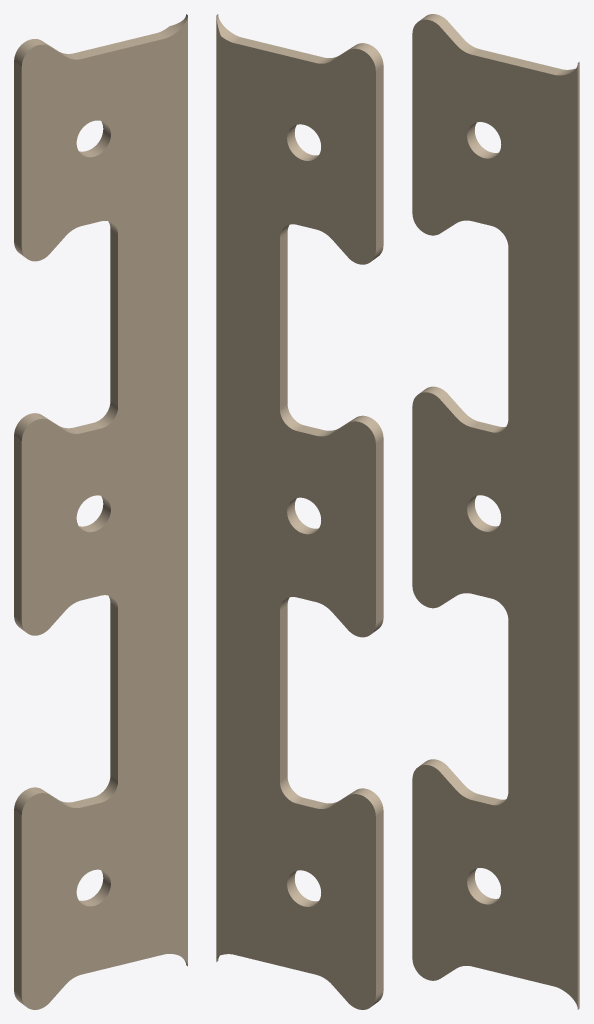
Rendered from p002-flap.glb.
3 renders of one model, left to right at view 1: azimuth 30°, elevation 25°; view 2: azimuth 150°, elevation 25°; view 3: azimuth 330°, elevation 25°, orthographic.
Parts seen in each view (by area): view 1: p002-flap; view 2: p002-flap; view 3: p002-flap.
Part boxes in pixels (left/top/right/bottom): p002-flap: left=14, top=14, right=187, bottom=1009; p002-flap: left=216, top=14, right=383, bottom=1009; p002-flap: left=412, top=14, right=579, bottom=1009.
Size of the model in its own units: 112 by 620 by 9.
